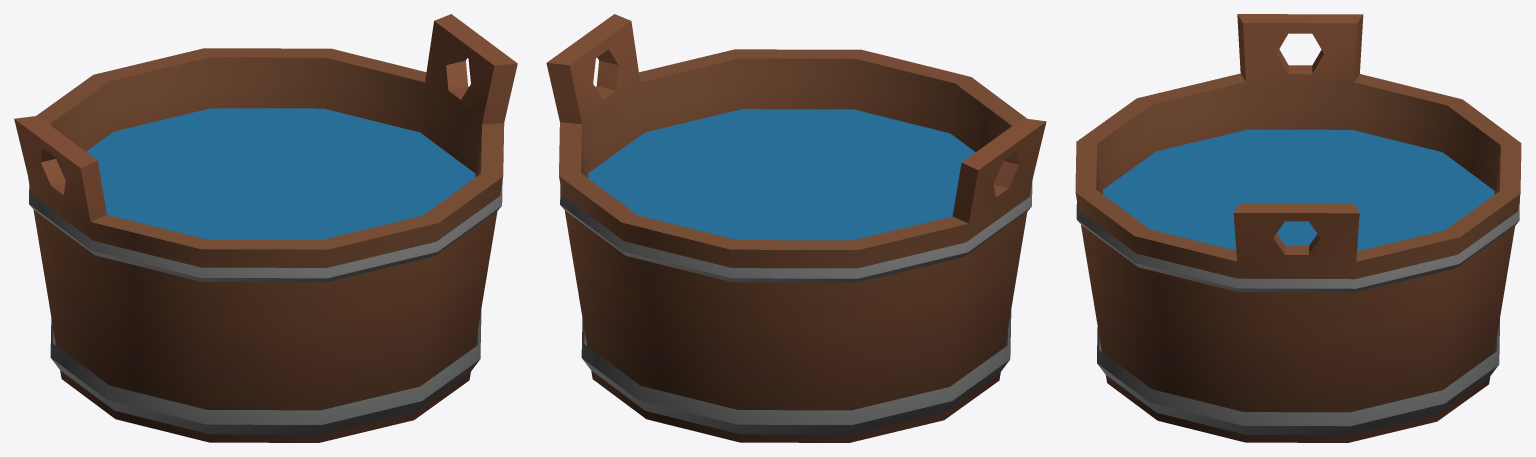
File: WaterBow_1.fbx
3 views of the same model, side by side, from view 1: azimuth 30°, elevation 25°; view 2: azimuth 150°, elevation 25°; view 3: azimuth 270°, elevation 25° (orthographic). The views are drawn at different scales.
Visible parts, largest first — view 1: WaterBow_1; view 2: WaterBow_1; view 3: WaterBow_1.
Boxes of the visible parts, bbox=[...] form: WaterBow_1: bbox=[14, 14, 517, 442]; WaterBow_1: bbox=[546, 14, 1046, 442]; WaterBow_1: bbox=[1075, 14, 1521, 442].
Size of the model in its own units: 62.26 by 36.29 by 58.89.
